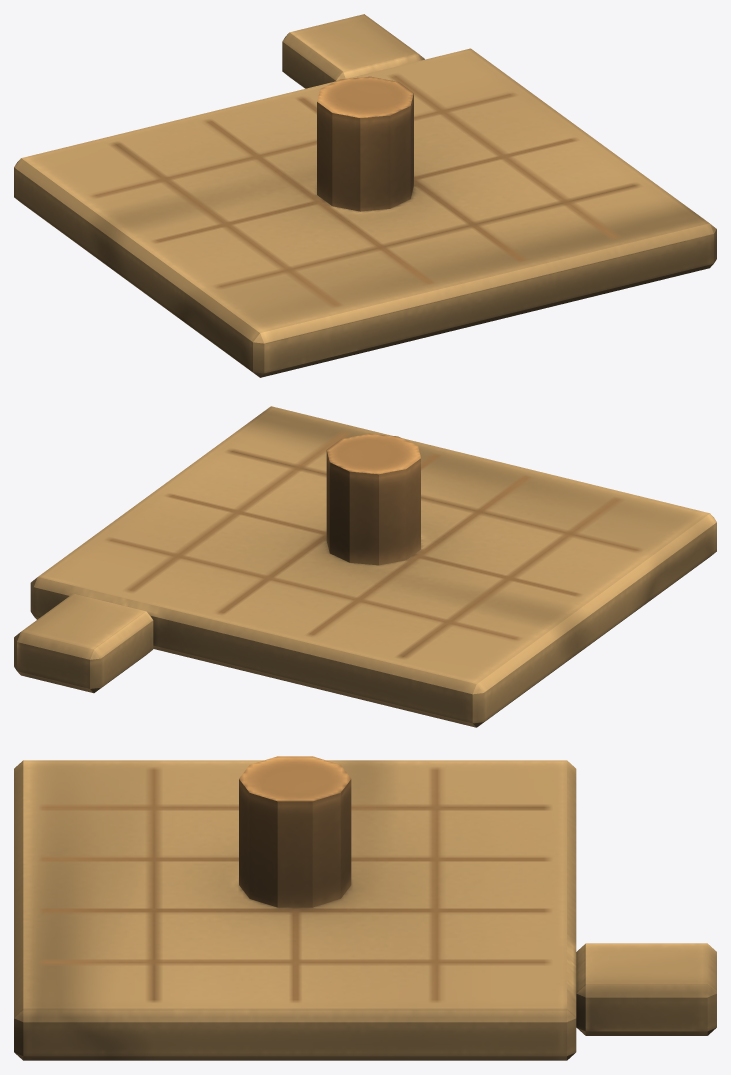
File: RenewableEnergy_WoodenBatteryPlatePattern.fbx
3 views of the same model, one above another, from view 1: azimuth 30°, elevation 25°; view 2: azimuth 150°, elevation 25°; view 3: azimuth 270°, elevation 25° (orthographic). The views are drawn at different scales.
Visible parts, largest first — view 1: WoodenBatteryPlatePattern; view 2: WoodenBatteryPlatePattern; view 3: WoodenBatteryPlatePattern.
Part boxes in pixels (left/top/right/bottom): WoodenBatteryPlatePattern: left=14, top=14, right=716, bottom=377; WoodenBatteryPlatePattern: left=14, top=406, right=716, bottom=727; WoodenBatteryPlatePattern: left=14, top=756, right=716, bottom=1060.
Bounding box in the file's own units: 0.13 × 0.037 × 0.15.
